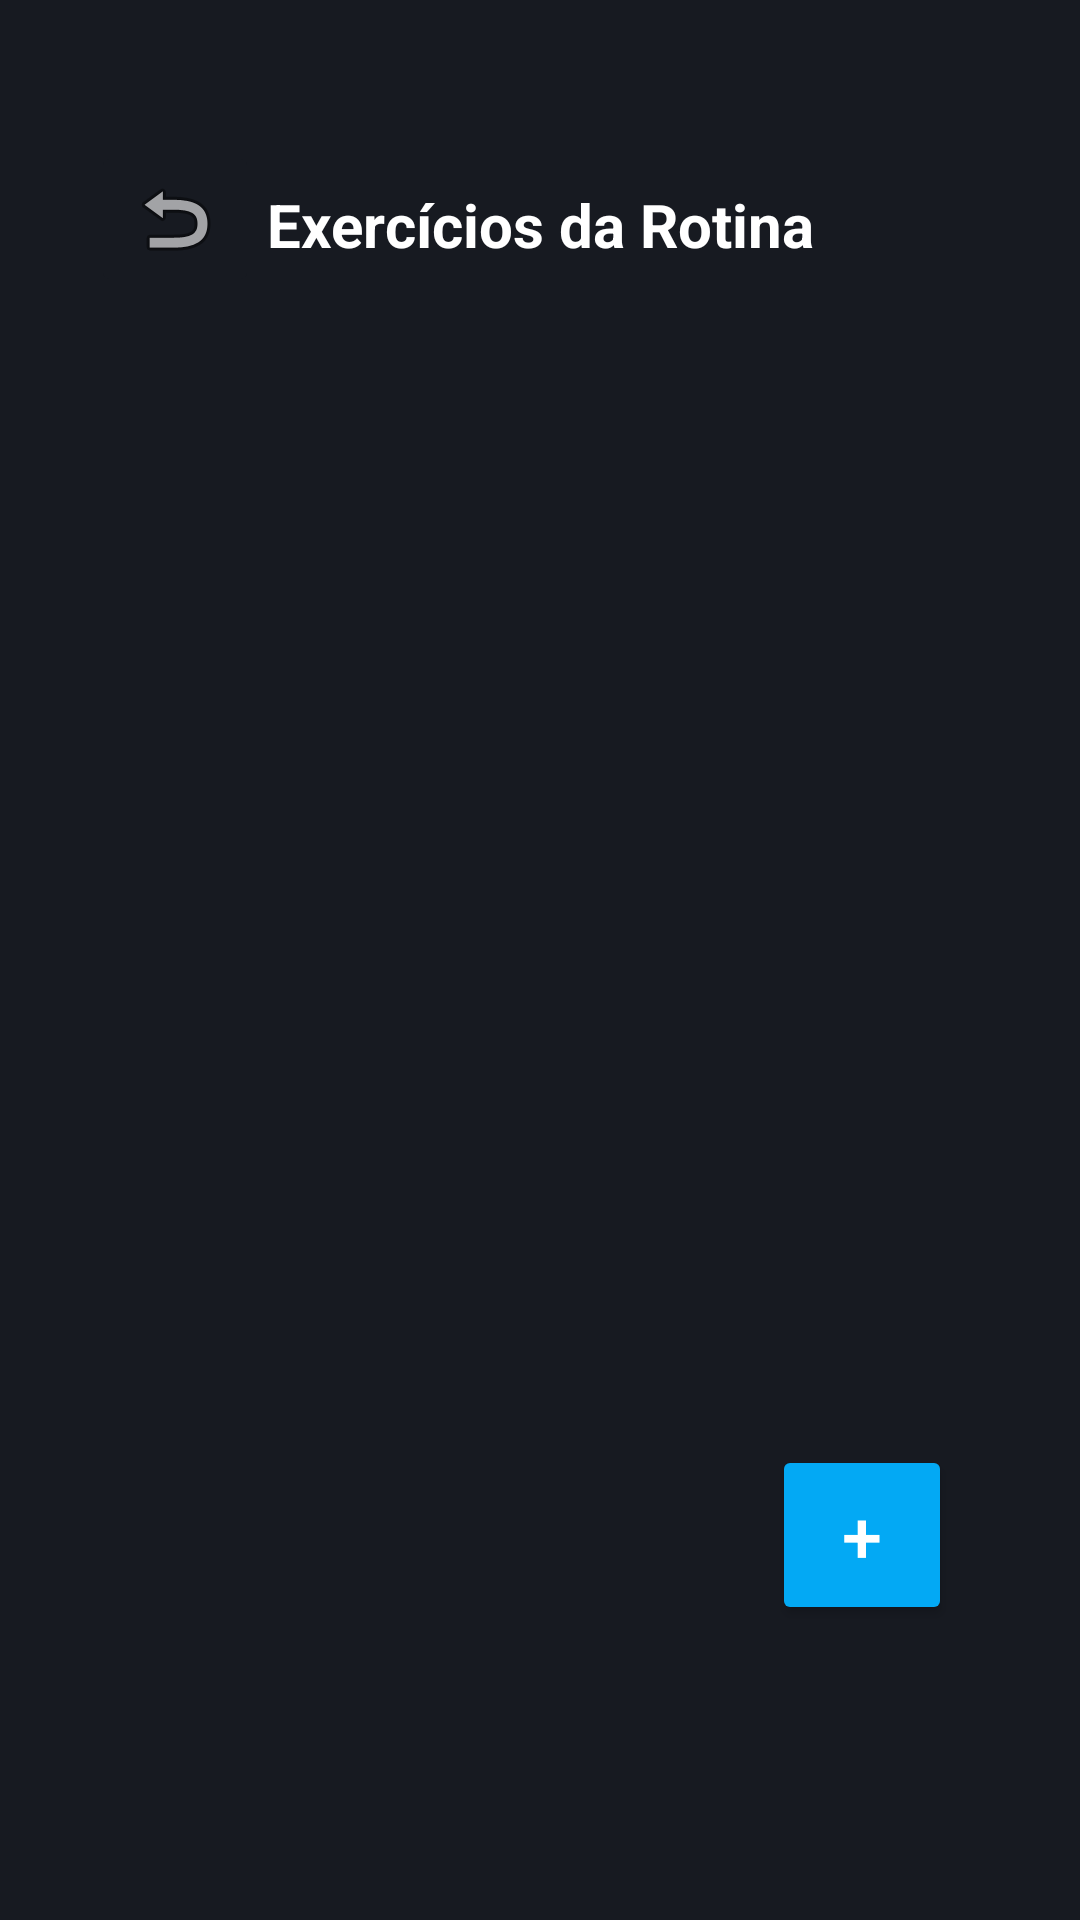

Locate icon controls on the screen. Image size 1080×1920, boxes as (x1, y1, x2, y2).
Voltar: (145, 191, 208, 248)
